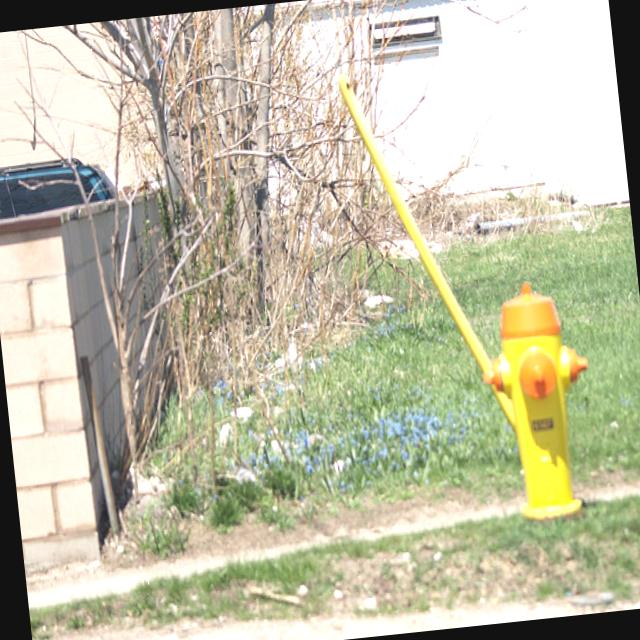Vehicle: (0, 153, 115, 220)
